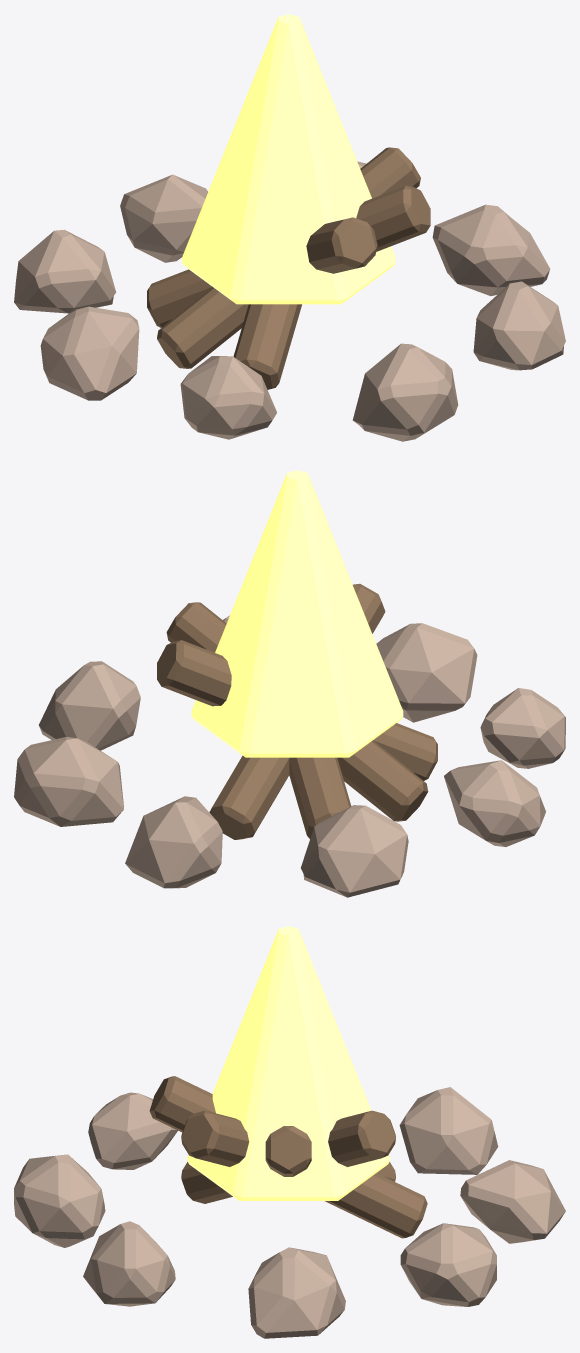
The picture shows the model from 3 angles, top to bottom: view 1: azimuth 30°, elevation 25°; view 2: azimuth 150°, elevation 25°; view 3: azimuth 270°, elevation 25°; orthographic projection. The views are drawn at different scales.
Visible parts, largest first — view 1: Campfire; view 2: Campfire; view 3: Campfire.
Part boxes in pixels (box(x1,y1,x2,y2)): Campfire: box(14, 14, 565, 441); Campfire: box(14, 470, 565, 897); Campfire: box(14, 926, 565, 1338).
Size of the model in its own units: 1.01 by 0.654 by 1.03.
